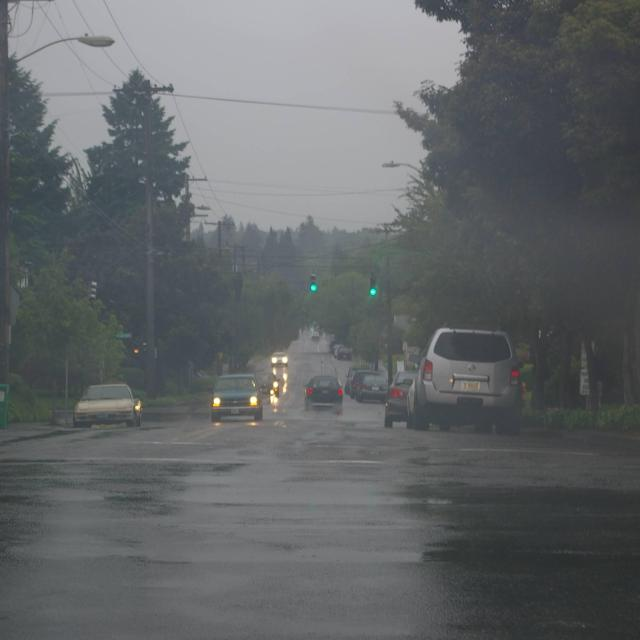Car: (406, 328, 527, 432), (71, 382, 145, 429), (206, 372, 268, 420), (386, 366, 422, 426), (301, 375, 346, 411), (354, 376, 391, 404), (249, 372, 283, 399), (268, 353, 290, 366), (338, 346, 352, 360)
